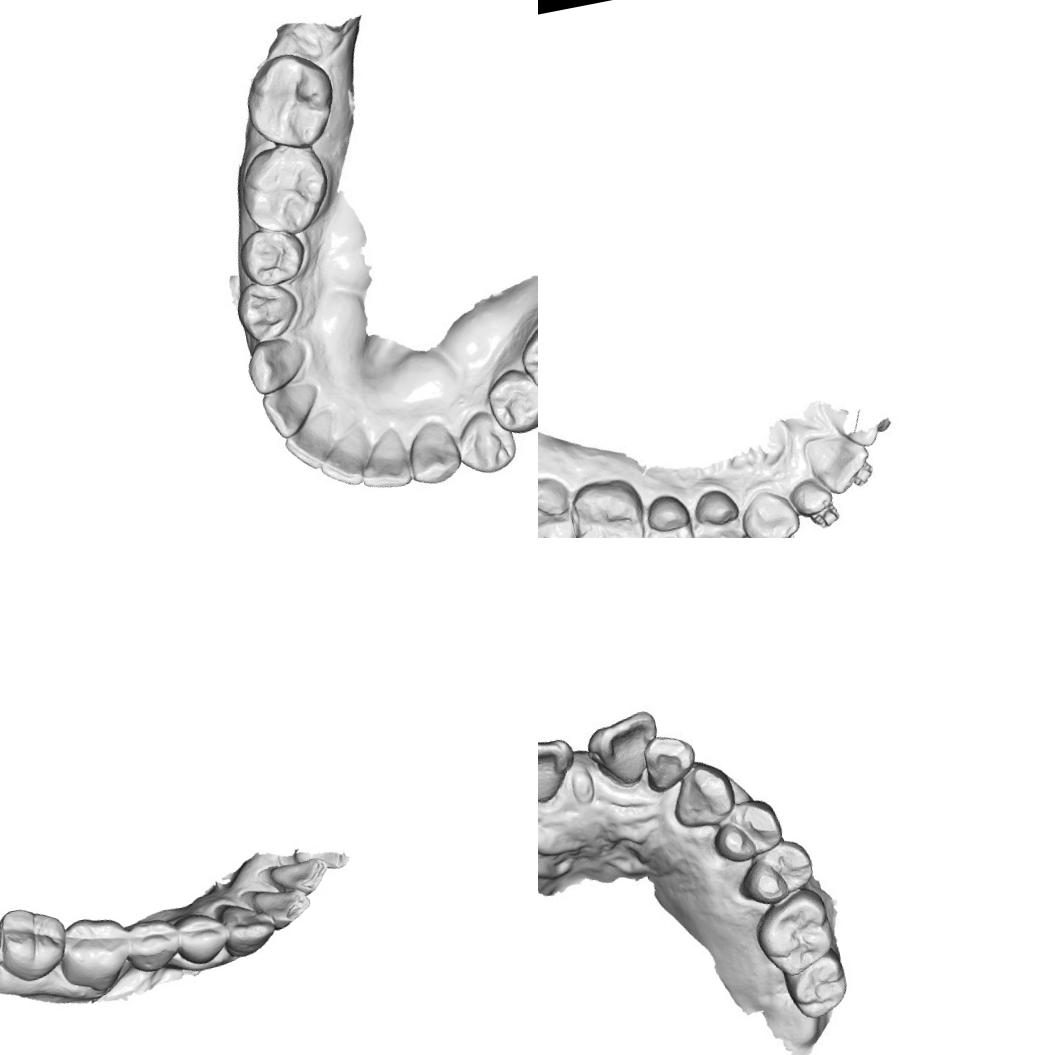canine: (666, 758, 737, 827), (244, 330, 316, 392), (215, 893, 280, 961), (402, 414, 462, 486), (735, 485, 803, 538)
incisor: (586, 707, 662, 787), (798, 424, 876, 499), (637, 726, 701, 795), (243, 877, 315, 936), (278, 410, 346, 472), (353, 430, 414, 496), (314, 423, 374, 486), (264, 853, 333, 902), (262, 382, 319, 437), (538, 731, 578, 804), (786, 473, 834, 523)
molar: (239, 48, 337, 146), (238, 138, 332, 236), (50, 909, 137, 1000), (754, 891, 839, 976), (0, 897, 74, 988), (574, 476, 647, 538), (786, 954, 850, 1020), (538, 472, 584, 538), (511, 308, 538, 403)
premolar: (232, 223, 307, 286), (232, 276, 302, 342), (715, 796, 786, 861), (744, 840, 812, 902), (122, 913, 184, 976), (171, 905, 233, 968), (483, 366, 538, 432), (457, 412, 517, 472), (689, 489, 742, 538), (643, 496, 695, 538)
